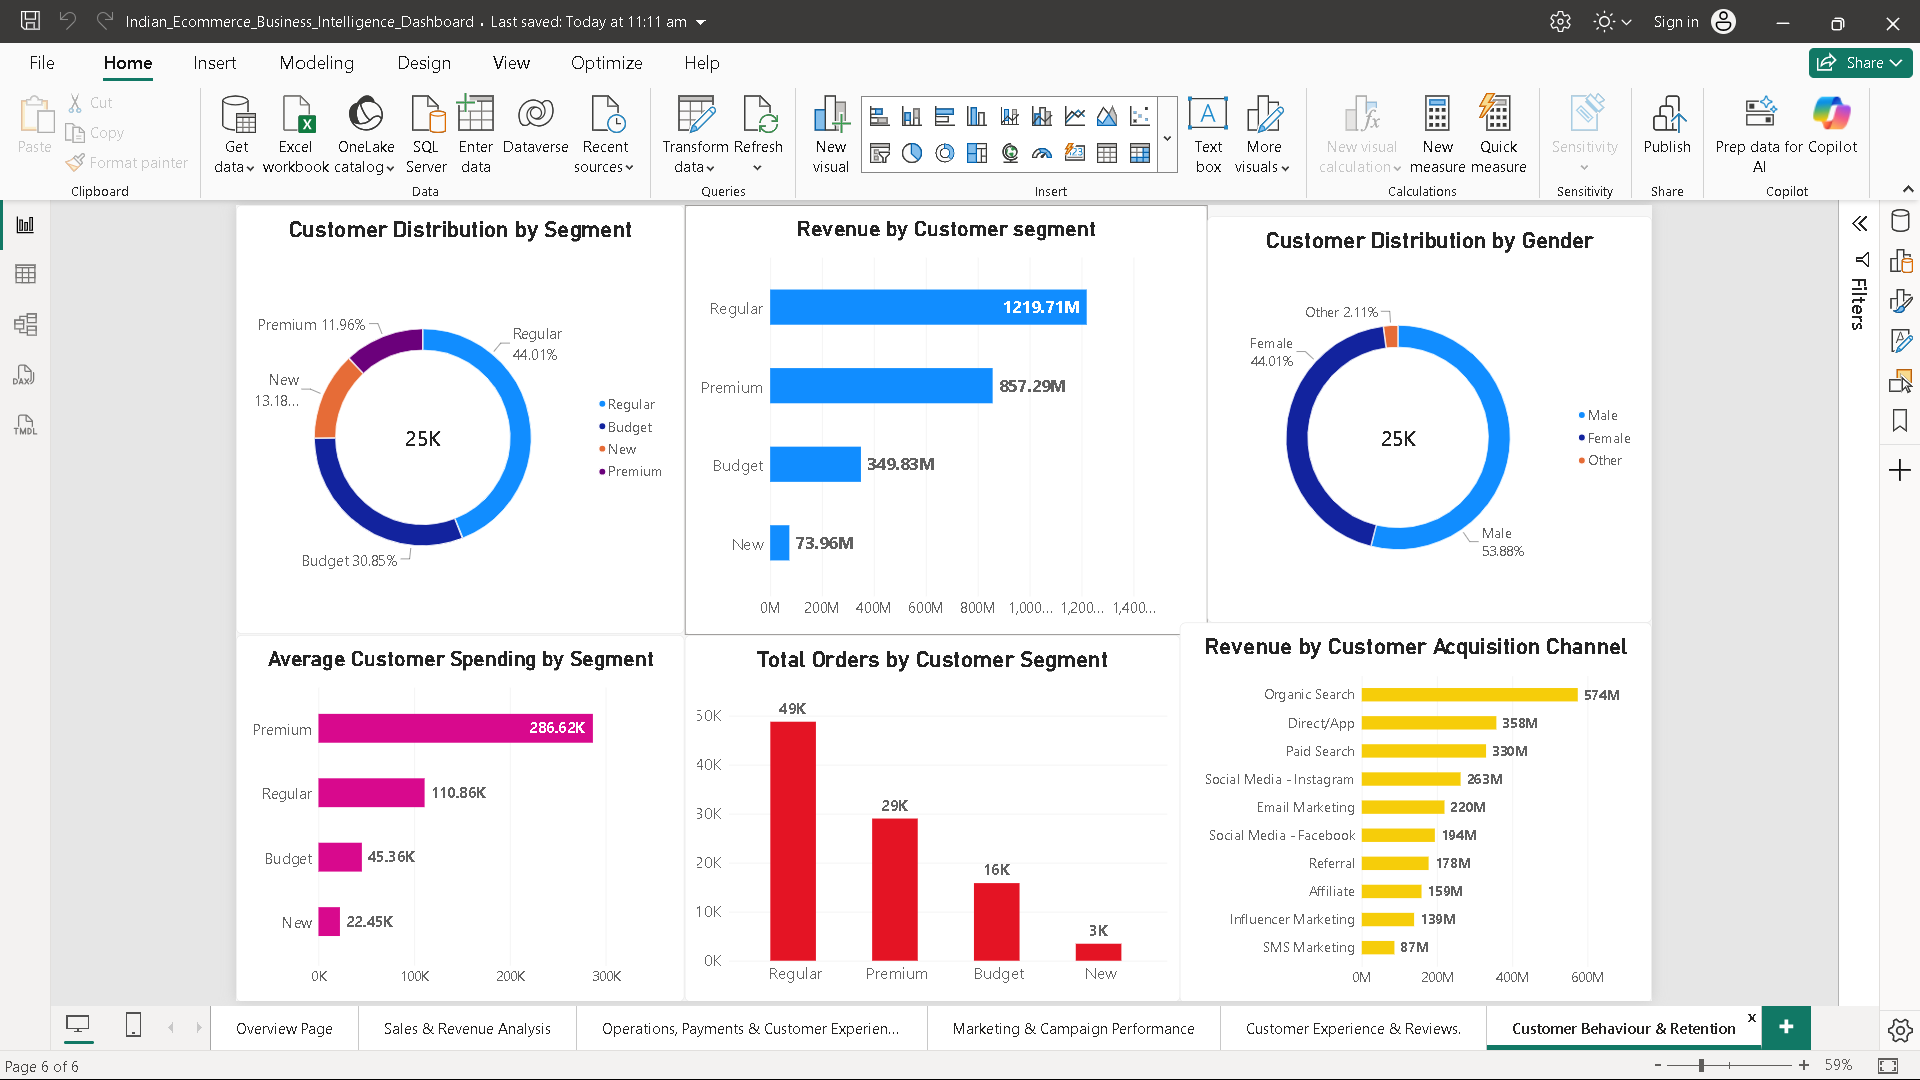

The dashboard page shown, as its layout file describes it:
{"tool":"powerbi","page":{"name":"Customer Behaviour & Retention","canvas":[1920,1080],"ordinal":5},"visuals":[{"type":"donutChart","title":"Customer Distribution by Segment","fields":{"Category":["customers.customer_segment"],"Y":["CountNonNull(customers.customer_id)"]},"box":[0,0,608,581.2],"z":0},{"type":"clusteredBarChart","title":"Revenue by Customer segment","fields":{"Category":["customers.customer_segment"],"Y":["Sum(customers.total_spend)"]},"box":[608,0,708.5,582.9],"z":1},{"type":"clusteredBarChart","title":"Average Customer Spending by Segment","fields":{"Category":["customers.customer_segment"],"Y":["Avg(customers.total_spend)"]},"box":[0,582.9,608,497.5],"z":2},{"type":"clusteredColumnChart","title":"Total Orders by Customer Segment","fields":{"Category":["customers.customer_segment"],"Y":["Sum(customers.total_orders)"]},"box":[608,582.9,671.7,497.5],"z":3},{"type":"donutChart","title":"Customer Distribution by Gender","fields":{"Category":["customers.gender"],"Y":["CountNonNull(customers.customer_id)"]},"box":[1316.5,15.1,603,551.1],"z":4},{"type":"clusteredBarChart","title":"Revenue by Customer Acquisition Channel","fields":{"Category":["customers.acquisition_channel"],"Y":["Sum(customers.total_spend)"]},"box":[1279.7,566.1,639.8,515.9],"z":5}]}

Visuals, with their boxes on the page's 1920x1080 design canvas (x1, y1, x2, y2). These are canvas units, not pixel positions in the 1920x1080 screenshot, which may show the page scaled, cropped or inside an application window:
"Customer Distribution by Segment" donutChart: bbox(0, 0, 608, 581)
"Revenue by Customer segment" clusteredBarChart: bbox(608, 0, 1316, 583)
"Average Customer Spending by Segment" clusteredBarChart: bbox(0, 583, 608, 1080)
"Total Orders by Customer Segment" clusteredColumnChart: bbox(608, 583, 1280, 1080)
"Customer Distribution by Gender" donutChart: bbox(1316, 15, 1920, 566)
"Revenue by Customer Acquisition Channel" clusteredBarChart: bbox(1280, 566, 1920, 1082)
